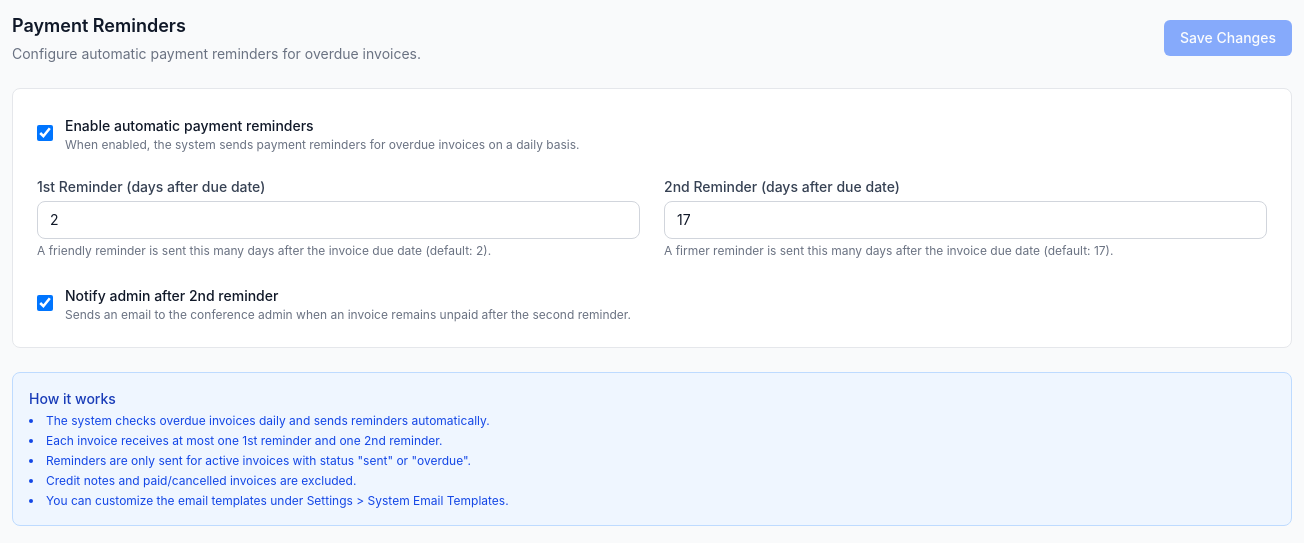
Test: PaymentReminderSettingsTab › toggling the checkbox marks the form dirty and enables save
Click the checkbox labelled "Enable automatic payment reminders".
click(45, 133)  # box top-left (37, 125), bottom-right (53, 141)
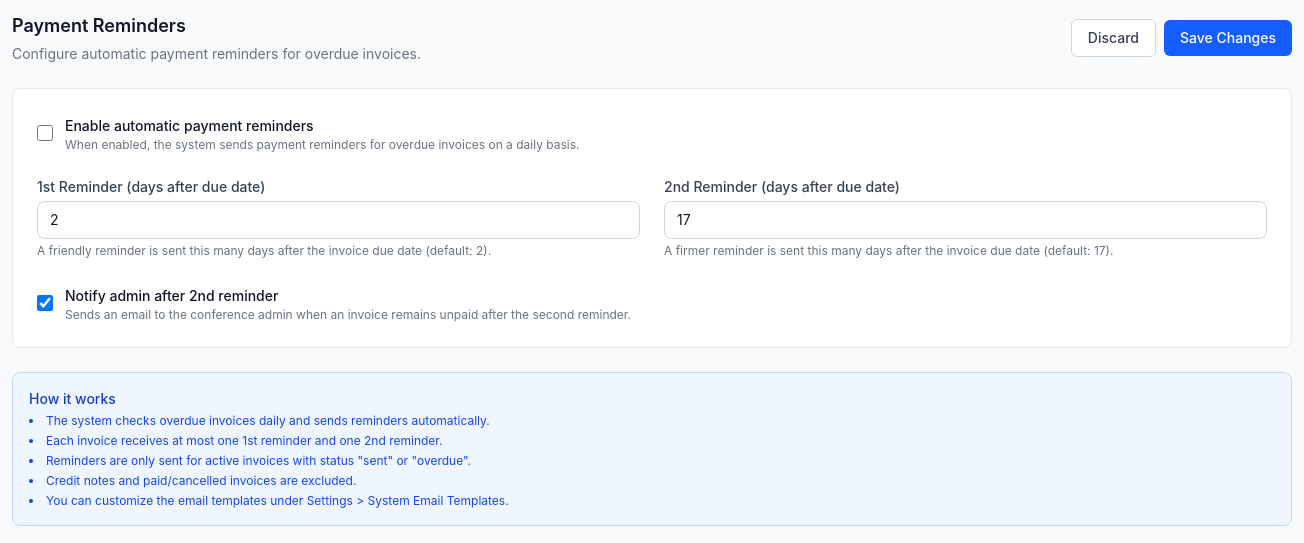
Expected: the button "Save Changes" is enabled, top-left (1164, 20), bottom-right (1292, 56)
